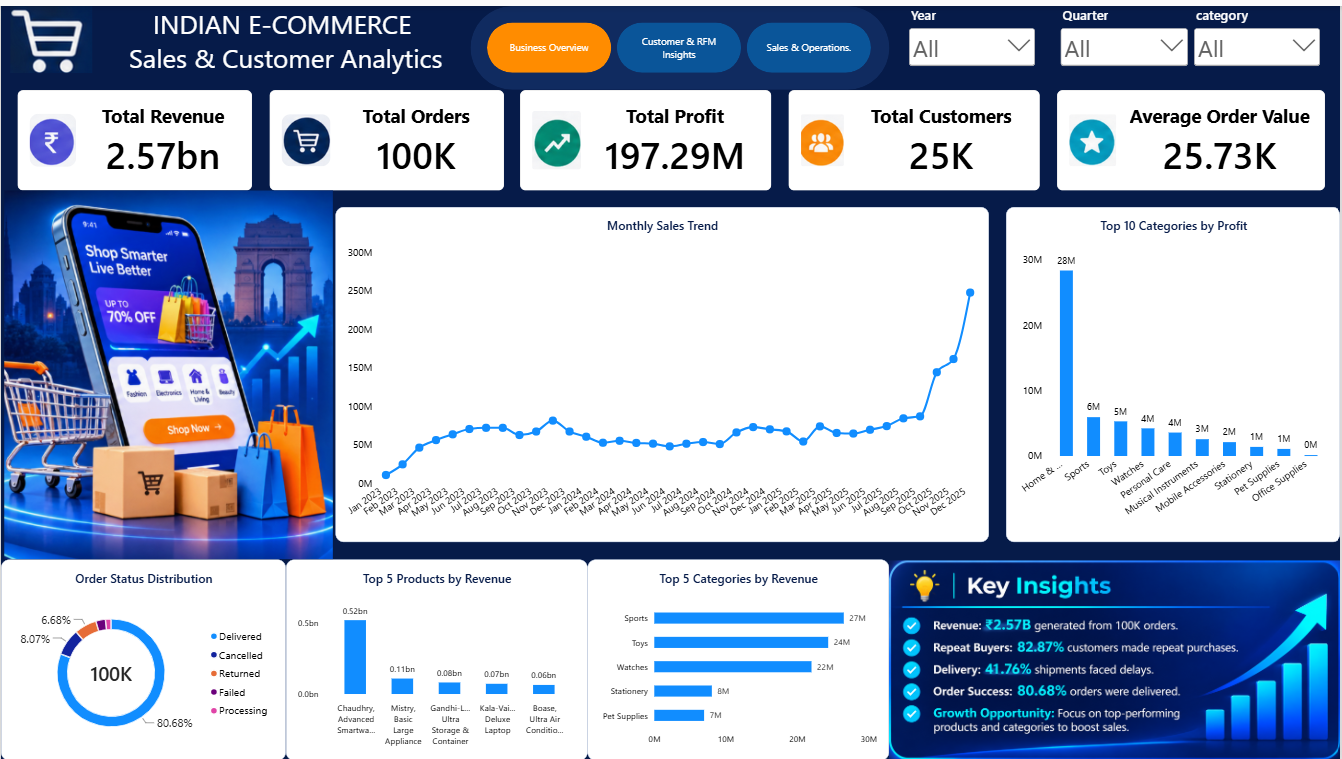

The dashboard page shown, as its layout file describes it:
{"tool":"powerbi","page":{"name":"Business Overview","canvas":[1920,1080],"ordinal":0},"visuals":[{"type":"shape","box":[672,0,600,120],"z":0,"group":"g2"},{"type":"cardVisual","fields":{"Data":["orders_cleaned.Total Revenue"]},"box":[24,120,336,144],"z":1000},{"type":"cardVisual","fields":{"Data":["orders_cleaned.Total Orders"]},"box":[384,120,336,144],"z":2000},{"type":"cardVisual","fields":{"Data":["orders_cleaned.Average Order Value"]},"box":[1512,120,384,144],"z":3000},{"type":"cardVisual","fields":{"Data":["customers_cleaned.Total Customers"]},"box":[1128,120,360,144],"z":4000},{"type":"cardVisual","fields":{"Data":["order_items_cleaned.Total Profit"]},"box":[744,120,360,144],"z":5000},{"type":"lineChart","title":"Monthly Sales Trend","fields":{"Category":["Date_Table.Month_Year"],"Y":["orders_cleaned.Total Revenue"]},"box":[480,288,936,480],"z":6000,"group":"g1"},{"type":"donutChart","title":"Order Status Distribution","fields":{"Category":["orders_cleaned.order_status"],"Y":["CountNonNull(orders_cleaned.order_id)"]},"box":[0,792,408,288],"z":7000},{"type":"clusteredBarChart","title":"Top 5 Categories by Revenue","fields":{"Category":["products_cleaned.category"],"Y":["Sum(order_items_cleaned.item_revenue)"]},"box":[840,792,432,288],"z":8000},{"type":"columnChart","title":"Top 5 Products by Revenue","fields":{"Category":["products_cleaned.product_name"],"Y":["Sum(order_items_cleaned.item_revenue)"]},"box":[408,792,432,288],"z":10000},{"type":"clusteredColumnChart","title":"Top 10 Categories by Profit","fields":{"Category":["products_cleaned.category"],"Y":["order_items_cleaned.Total Profit"]},"box":[1440,288,480,480],"z":11000},{"type":"image","box":[0,264,480,528],"z":12000},{"type":"textbox","box":[144,0,528,120],"z":13000},{"type":"pageNavigator","box":[696,24,552,72],"z":14000,"group":"g2"},{"type":"image","box":[0,0,144,96],"z":14002},{"type":"group","id":"g1","title":"Group 1","box":[480,288,936,480],"z":14004},{"type":"image","box":[1272,792,648,288],"z":14005},{"type":"slicer","fields":{"Values":["Date_Table.Year"]},"box":[1296,0,190,100],"z":14006},{"type":"slicer","fields":{"Values":["Date_Table.Quarter"]},"box":[1512,0,192,96],"z":14007},{"type":"slicer","fields":{"Values":["products_cleaned.category"]},"box":[1704,0,190,100],"z":14008},{"type":"group","id":"g2","title":"Group 2","box":[672,0,600,120],"z":14009}]}

Visuals, with their boxes in screenshot pixels (x1, y1, x2, y2), scaled from the page's 1920x1080 canvas onto the 1342x759 screenshot:
shape: left=470, top=0, right=889, bottom=84
cardVisual - orders_cleaned.Total Revenue: left=17, top=84, right=252, bottom=186
cardVisual - orders_cleaned.Total Orders: left=268, top=84, right=503, bottom=186
cardVisual - orders_cleaned.Average Order Value: left=1057, top=84, right=1325, bottom=186
cardVisual - customers_cleaned.Total Customers: left=788, top=84, right=1040, bottom=186
cardVisual - order_items_cleaned.Total Profit: left=520, top=84, right=772, bottom=186
"Monthly Sales Trend" lineChart: left=336, top=202, right=990, bottom=540
"Order Status Distribution" donutChart: left=0, top=557, right=285, bottom=758
"Top 5 Categories by Revenue" clusteredBarChart: left=587, top=557, right=889, bottom=758
"Top 5 Products by Revenue" columnChart: left=285, top=557, right=587, bottom=758
"Top 10 Categories by Profit" clusteredColumnChart: left=1006, top=202, right=1341, bottom=540
image: left=0, top=186, right=336, bottom=557
textbox: left=101, top=0, right=470, bottom=84
pageNavigator: left=486, top=17, right=872, bottom=67
image: left=0, top=0, right=101, bottom=67
"Group 1" group: left=336, top=202, right=990, bottom=540
image: left=889, top=557, right=1341, bottom=758
slicer - Date_Table.Year: left=906, top=0, right=1039, bottom=70
slicer - Date_Table.Quarter: left=1057, top=0, right=1191, bottom=67
slicer - products_cleaned.category: left=1191, top=0, right=1324, bottom=70
"Group 2" group: left=470, top=0, right=889, bottom=84
